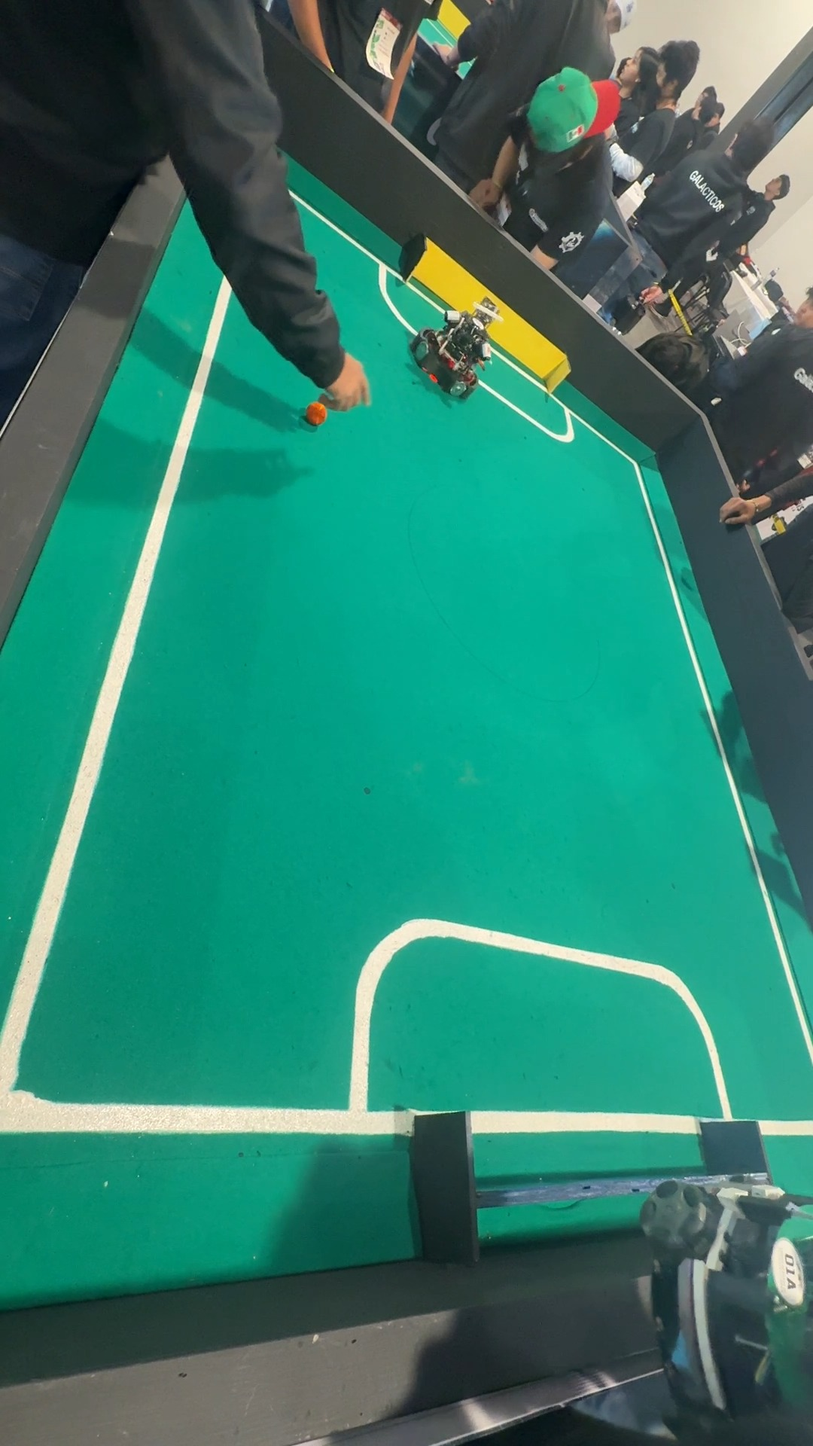Robot: (403, 291, 500, 410)
